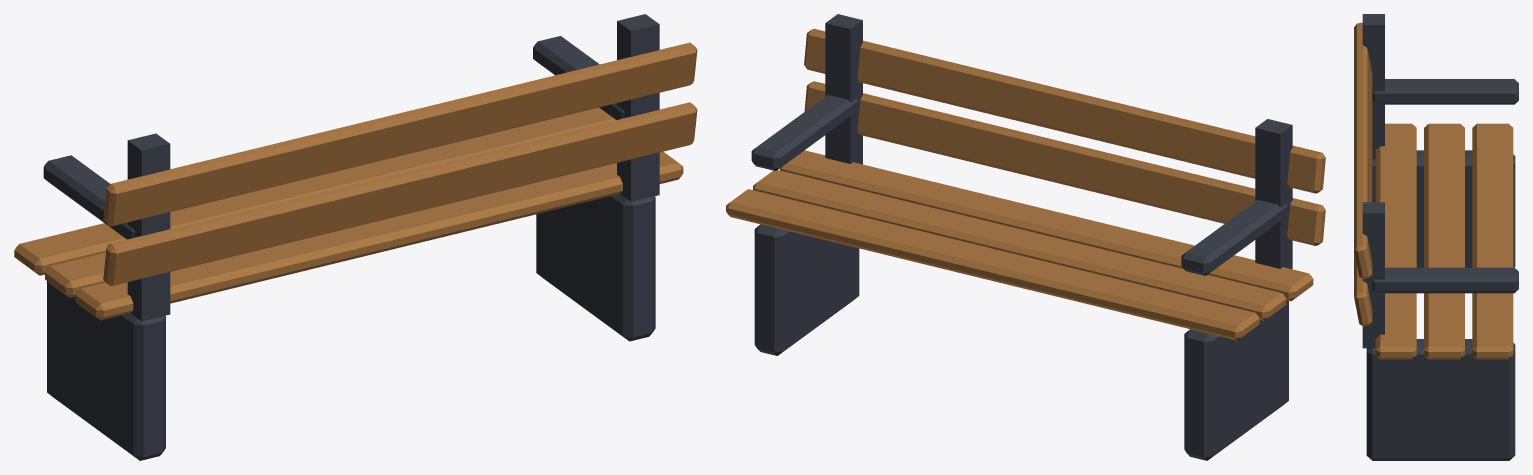
File: banco_praca.glb
3 views of the same model, side by side, from view 1: azimuth 30°, elevation 25°; view 2: azimuth 150°, elevation 25°; view 3: azimuth 270°, elevation 25° (orthographic). The views are drawn at different scales.
Visible parts, largest first — view 1: corpo; view 2: corpo; view 3: corpo.
Part boxes in pixels (<box>): corpo: <box>14,14,697,460</box>; corpo: <box>726,14,1325,460</box>; corpo: <box>1354,14,1518,460</box>.
Bounding box in the file's own units: 0.72 × 0.37 × 0.2217.
